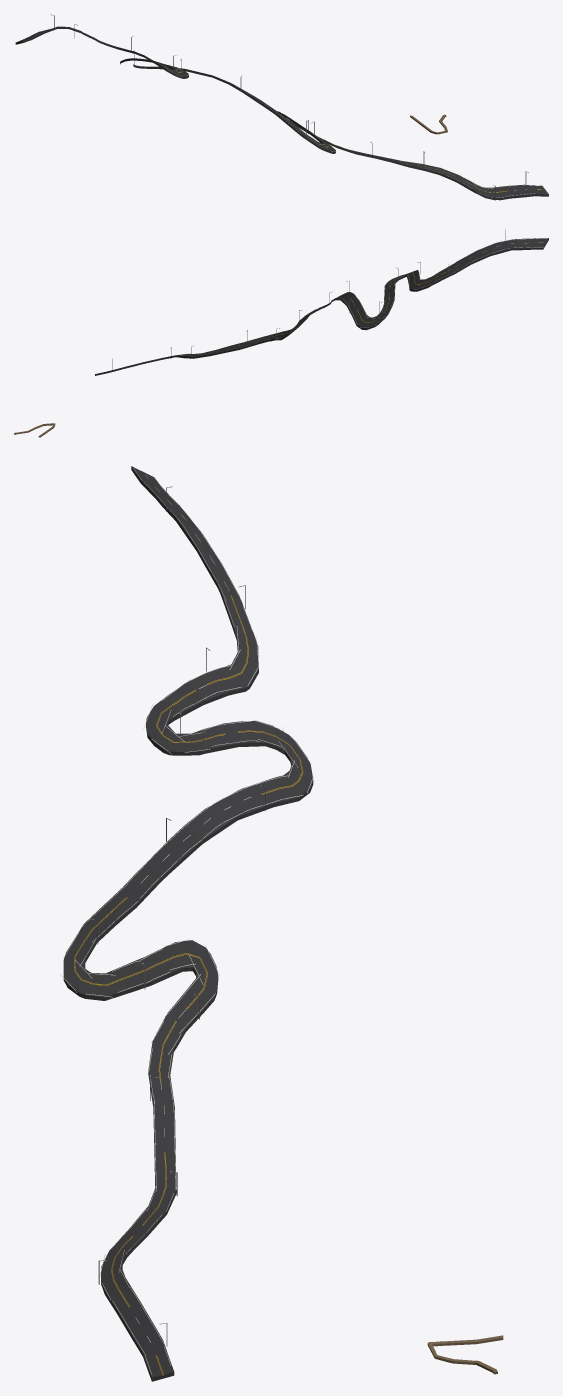
The picture shows the model from 3 angles, top to bottom: view 1: azimuth 30°, elevation 25°; view 2: azimuth 150°, elevation 25°; view 3: azimuth 270°, elevation 25°; orthographic projection. The views are drawn at different scales.
Size of the model in its own units: 295 by 157 by 127.
